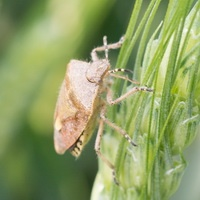insect: (54, 36, 152, 157), (106, 75, 135, 100)
